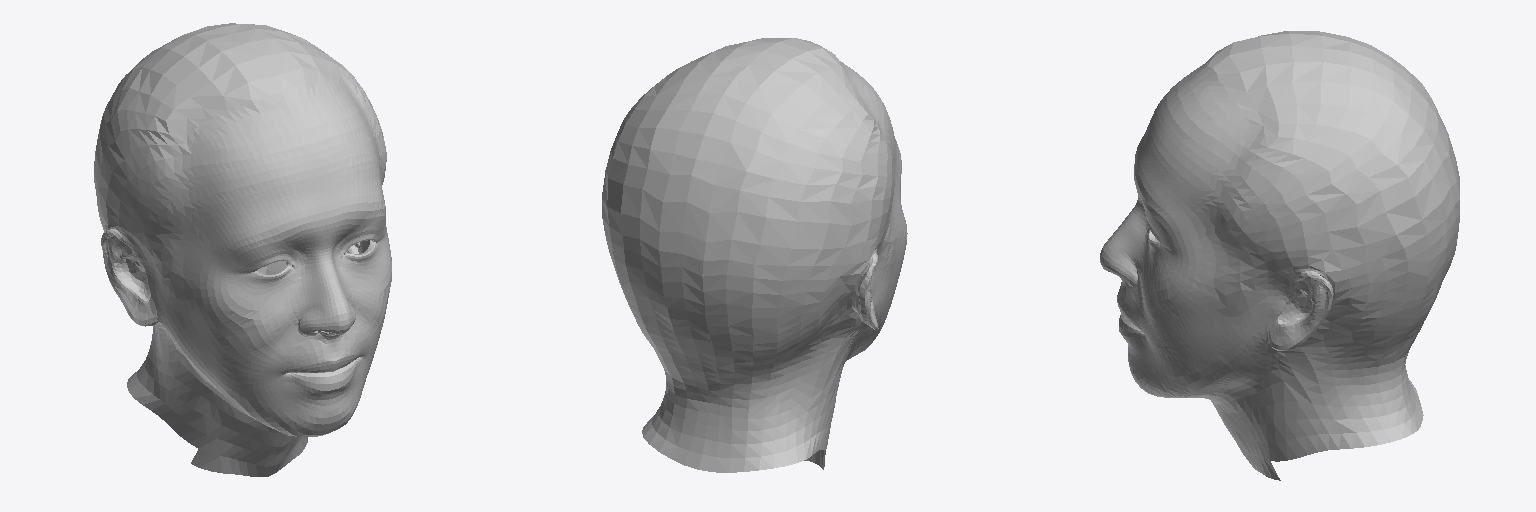
File: jokowi.obj
3 views of the same model, side by side, from view 1: azimuth 30°, elevation 25°; view 2: azimuth 150°, elevation 25°; view 3: azimuth 270°, elevation 25° (orthographic).
Parts seen in each view (by area): view 1: Object_8; view 2: Object_8; view 3: Object_8.
Boxes of the visible parts, x1,y1,x2,y2 form: Object_8: [94, 23, 391, 476]; Object_8: [602, 38, 907, 472]; Object_8: [1100, 31, 1459, 480].
Bounding box in the file's own units: 0.1831 × 0.2841 × 0.2212.